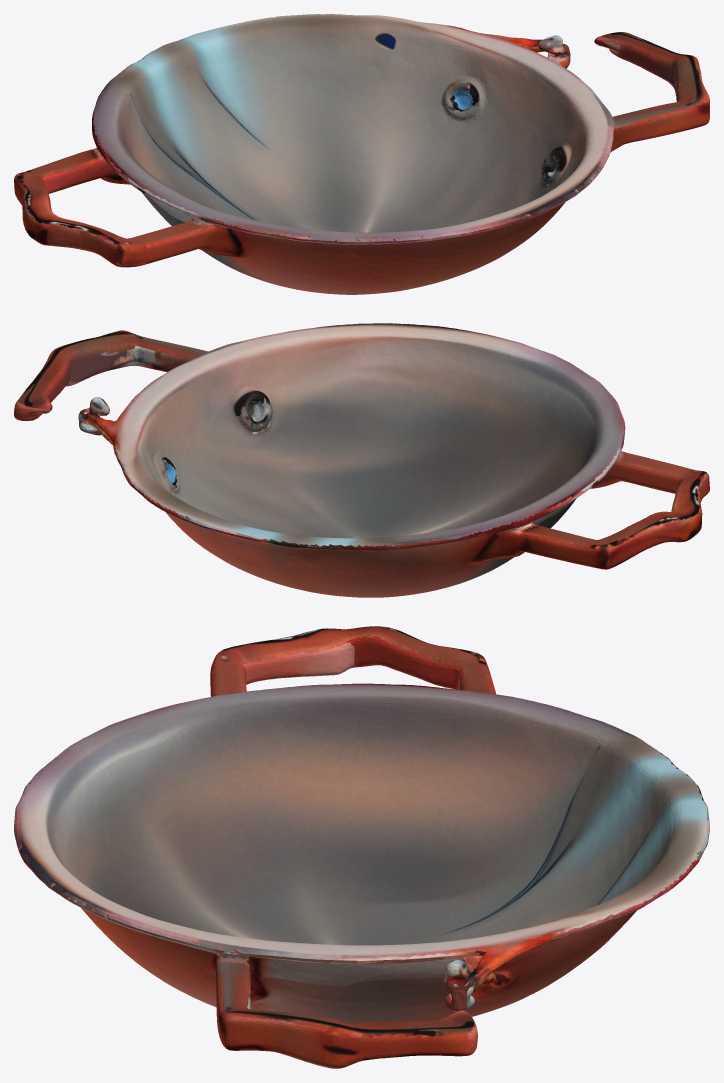
The model's file is image_0001_segmented.glb.
3 views of the same model, one above another, from view 1: azimuth 30°, elevation 25°; view 2: azimuth 150°, elevation 25°; view 3: azimuth 270°, elevation 25° (orthographic). The views are drawn at different scales.
Parts seen in each view (by area): view 1: tmpuhks6v1x.ply; view 2: tmpuhks6v1x.ply; view 3: tmpuhks6v1x.ply.
Part boxes in pixels (x1,y1,x2,y2): tmpuhks6v1x.ply: [14, 14, 709, 294]; tmpuhks6v1x.ply: [14, 323, 709, 597]; tmpuhks6v1x.ply: [14, 626, 709, 1068].
Size of the model in its own units: 1.99 by 0.3802 by 1.43.
Materials: 1 (1 with a texture image).
